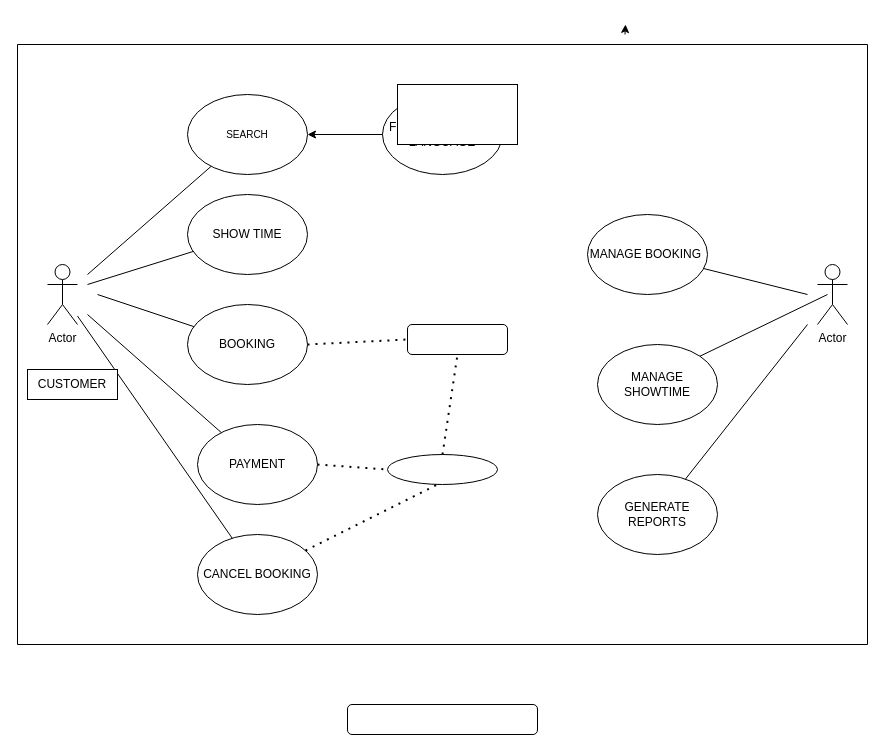
This 885x752 diagram has some shape labels left out. Here are the shapes that lost their labels. From the top down, the centre of each, then its label:
At point (457, 339): "<<INCLUDE>>".
At point (442, 469): "LOGIN".
At point (442, 719): "BOOK MY SHOW".
